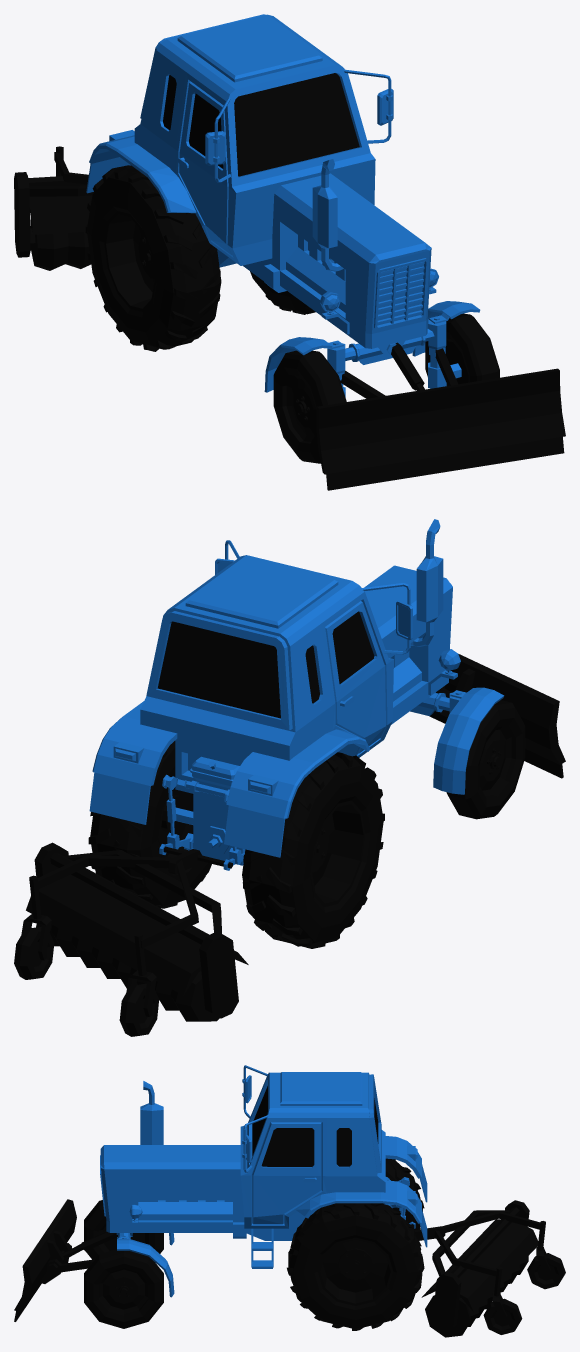
File: SM_tractor.fbx
3 views of the same model, one above another, from view 1: azimuth 30°, elevation 25°; view 2: azimuth 150°, elevation 25°; view 3: azimuth 270°, elevation 25° (orthographic). The views are drawn at different scales.
Visible parts, largest first — view 1: Symmetry_4, Cylinder_1, Cylinder_4, Cylinder, Cylinder_3, Cylinder_2; view 2: Symmetry_4, Cylinder, Cylinder_4, Cylinder_3, Cylinder_1; view 3: Symmetry_4, Cylinder_4, Cylinder, Cylinder_2, Cylinder_1, Cylinder_3.
Boxes of the visible parts, box(x1,y1,x2,y2) form: Symmetry_4: box(86, 14, 480, 397); Cylinder_1: box(316, 342, 565, 490); Cylinder_4: box(85, 165, 315, 351); Cylinder: box(14, 146, 94, 270); Cylinder_3: box(273, 350, 346, 463); Cylinder_2: box(425, 313, 499, 385); Symmetry_4: box(89, 519, 504, 870); Cylinder: box(14, 842, 248, 1036); Cylinder_4: box(88, 741, 384, 948); Cylinder_3: box(446, 700, 525, 819); Cylinder_1: box(429, 654, 565, 778); Symmetry_4: box(100, 1065, 427, 1297); Cylinder_4: box(287, 1158, 424, 1330); Cylinder: box(411, 1200, 565, 1337); Cylinder_2: box(84, 1249, 163, 1328); Cylinder_1: box(14, 1199, 117, 1321); Cylinder_3: box(84, 1200, 163, 1259).
Bounding box in the file's own units: 227 × 285 × 659.
